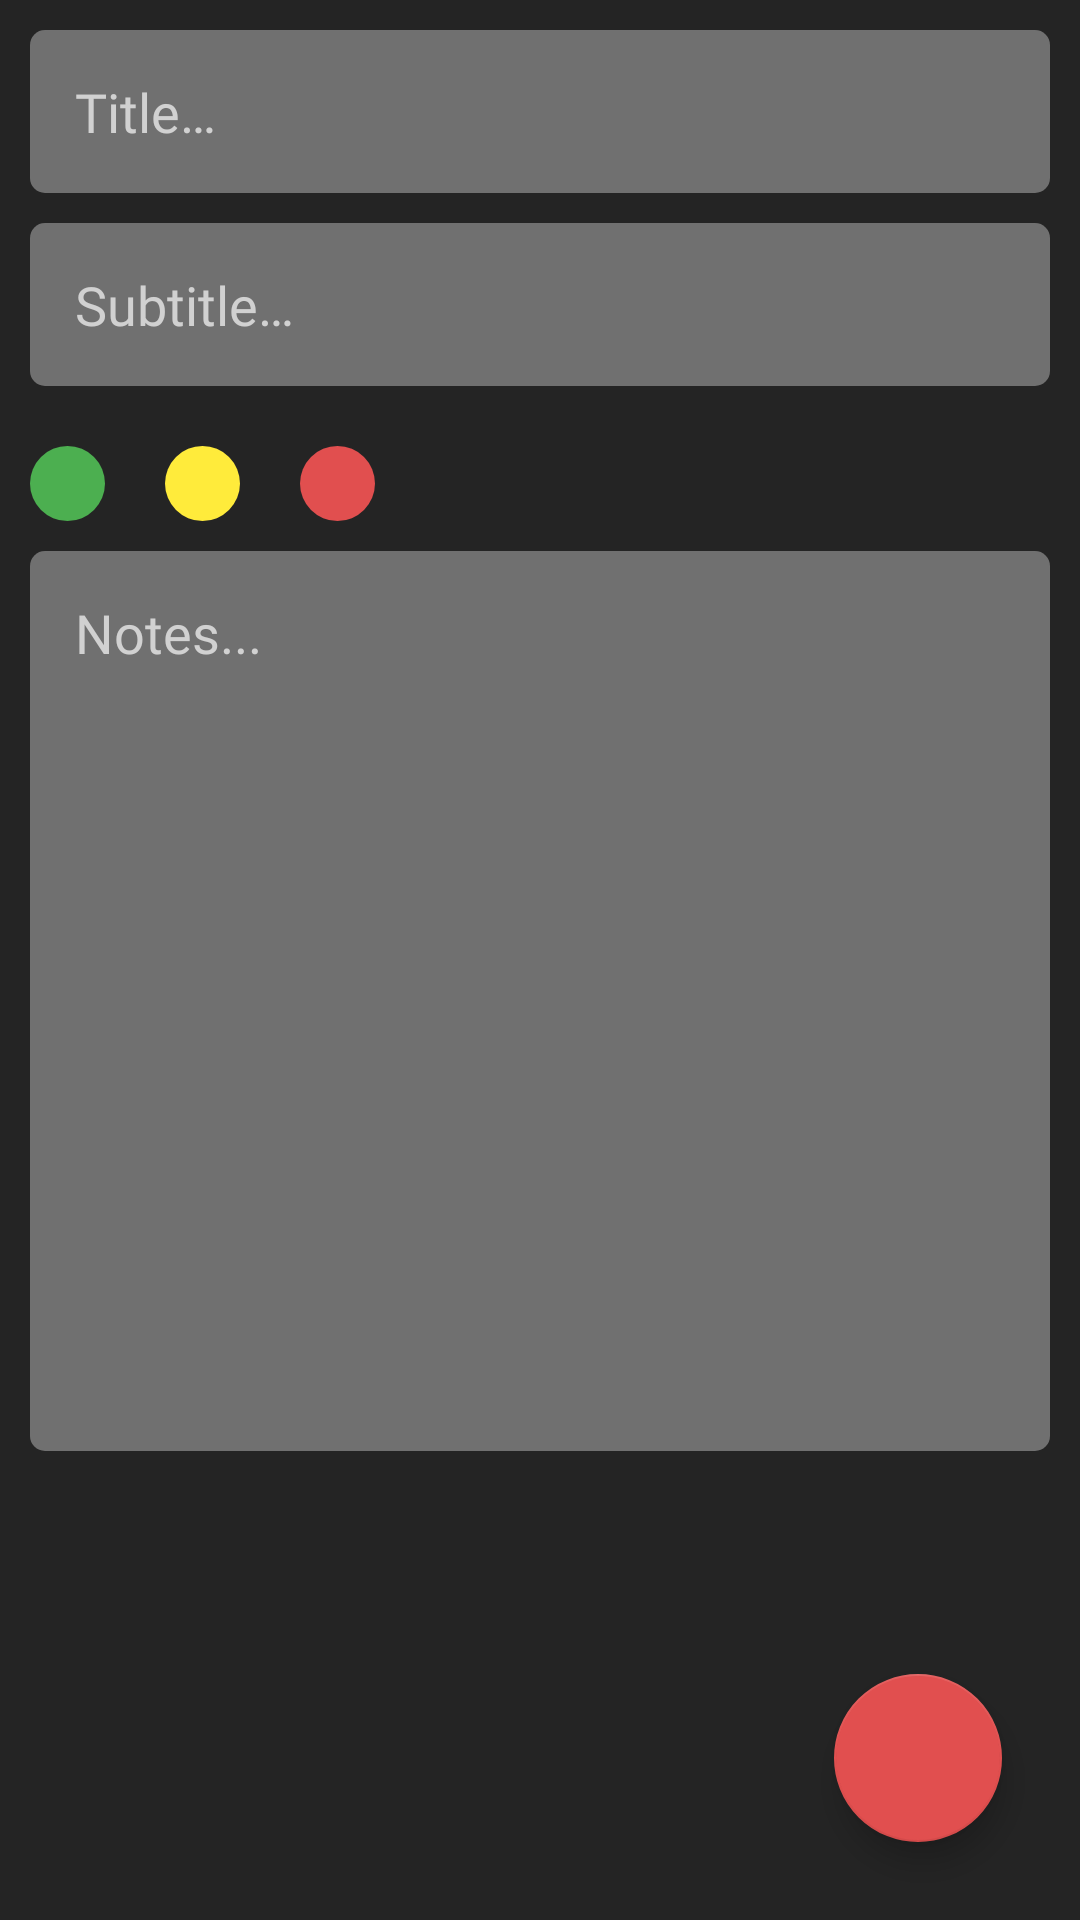

Where icons sit on this 1080x1920 app screen, as {"left": x1, "top": y1, "right": x2, "bottom": y2}:
dot: {"left": 30, "top": 446, "right": 105, "bottom": 521}, {"left": 165, "top": 446, "right": 240, "bottom": 521}, {"left": 300, "top": 446, "right": 375, "bottom": 521}
